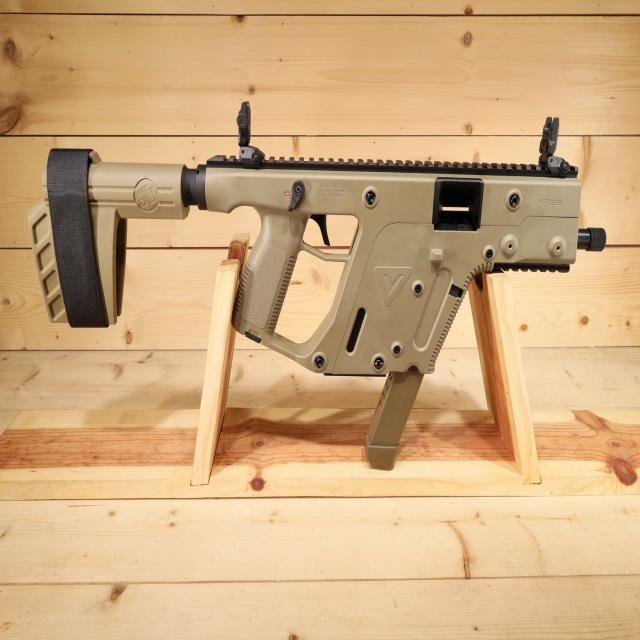SMG: (32, 104, 582, 473)
